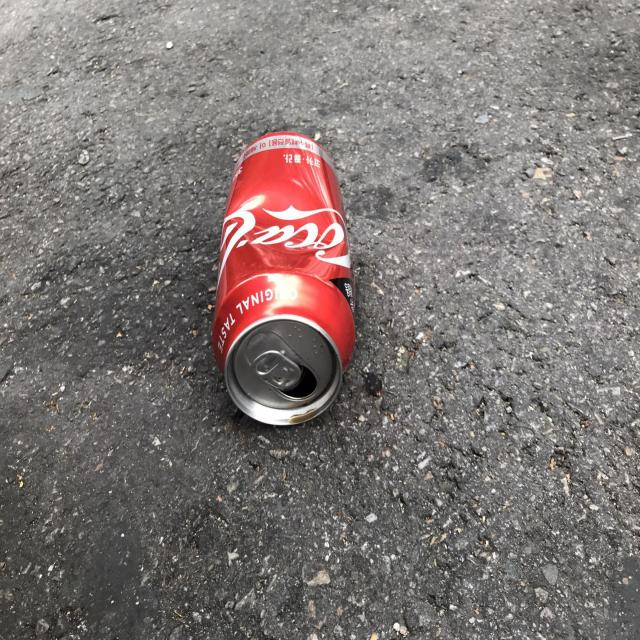can: (212, 132, 355, 425)
